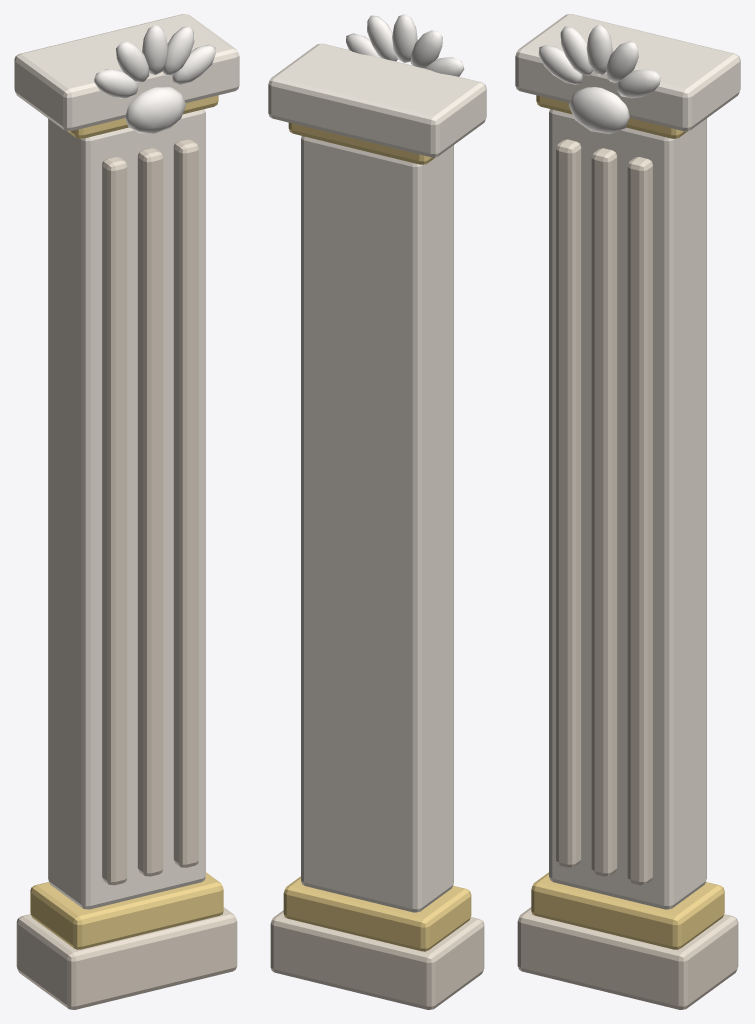
File: opera_pilaster.glb
3 renders of one model, left to right at view 1: azimuth 30°, elevation 25°; view 2: azimuth 150°, elevation 25°; view 3: azimuth 330°, elevation 25°, orthographic. The views are drawn at different scales.
Parts seen in each view (by area): view 1: opera_pilaster.001; view 2: opera_pilaster.001; view 3: opera_pilaster.001.
Part boxes in pixels (left/top/right/bottom): opera_pilaster.001: left=14, top=14, right=239, bottom=1009; opera_pilaster.001: left=268, top=14, right=486, bottom=1009; opera_pilaster.001: left=515, top=14, right=740, bottom=1009.
Bounding box in the file's own units: 2.7 × 14.21 × 1.72.
